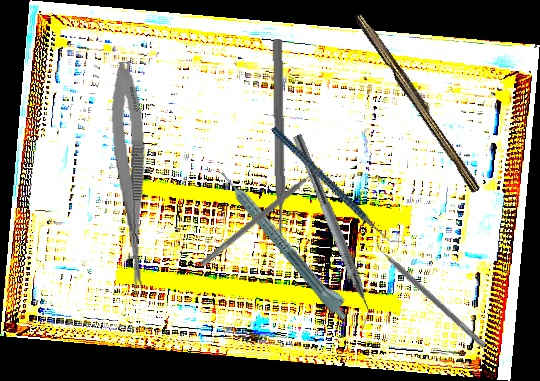Chopper: (270, 98, 406, 274), (279, 133, 383, 333)
Handpiece: (216, 163, 356, 323)
Micro Scissor: (105, 60, 159, 297)
Pusher: (270, 38, 288, 256)
Scalpel Handle: (350, 10, 487, 194)
Spatula Surgical: (199, 163, 327, 272), (369, 236, 491, 349)
